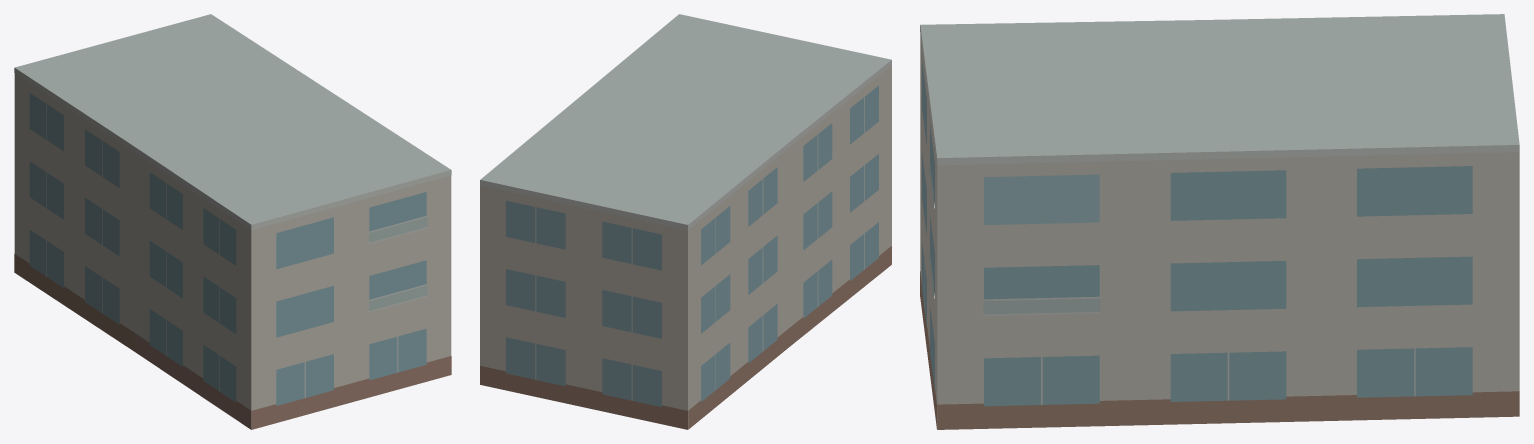
The model's file is survey-upis-32718337.glb.
3 renders of one model, left to right at view 1: azimuth 30°, elevation 25°; view 2: azimuth 150°, elevation 25°; view 3: azimuth 270°, elevation 25°, orthographic. The views are drawn at different scales.
Parts seen in each view (by area): view 1: survey-upis-32718337.tmp; view 2: survey-upis-32718337.tmp; view 3: survey-upis-32718337.tmp.
Boxes of the visible parts, box(x1,y1,x2,y2) form: survey-upis-32718337.tmp: box(14, 14, 451, 429); survey-upis-32718337.tmp: box(480, 14, 891, 429); survey-upis-32718337.tmp: box(920, 14, 1519, 429).
Bounding box in the file's own units: 10.42 × 9.15 × 18.31.
